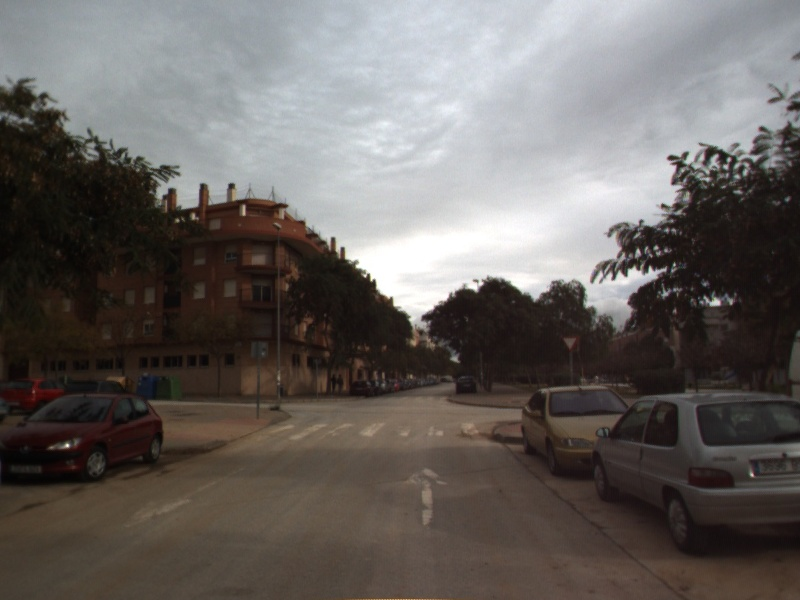STRAIGHT: (400, 465, 451, 528)
